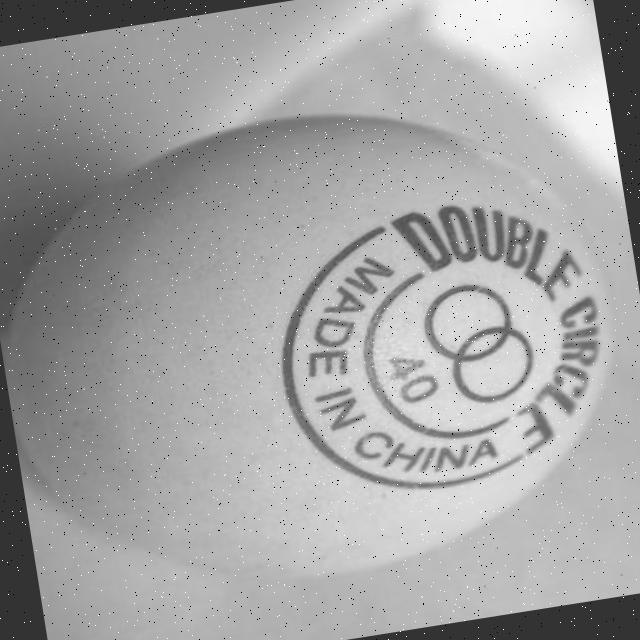ping-pong-ball: (0, 72, 640, 621)
